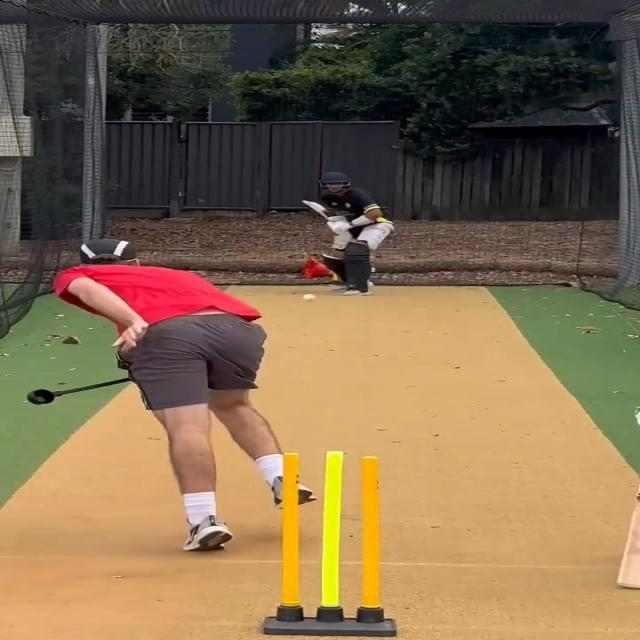ball: (300, 293, 316, 302)
stump: (270, 446, 392, 638)
